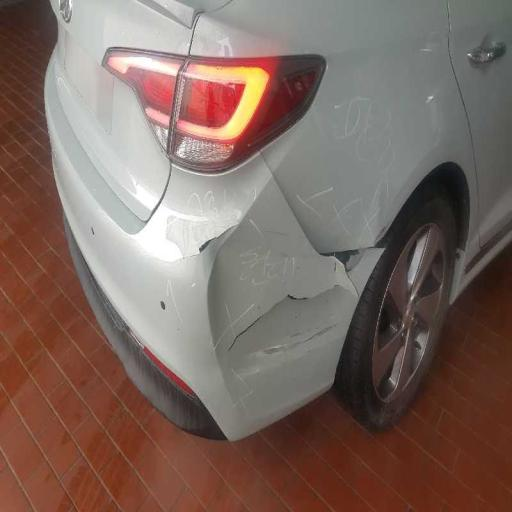broken: (192, 110, 404, 496)
